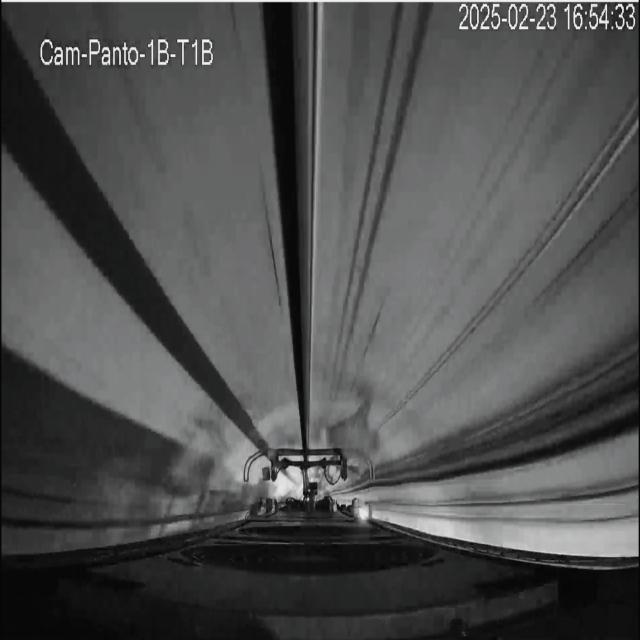Camera Stamp: (39, 35, 218, 69)
Date Stamp: (460, 3, 637, 33)
No - Spark: (204, 394, 370, 512)
